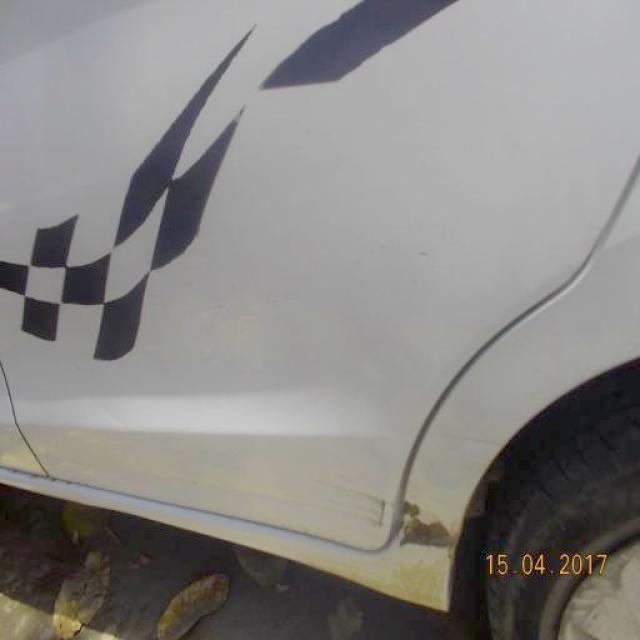car damage: (82, 460, 393, 532), (398, 498, 459, 570), (370, 491, 389, 530)
